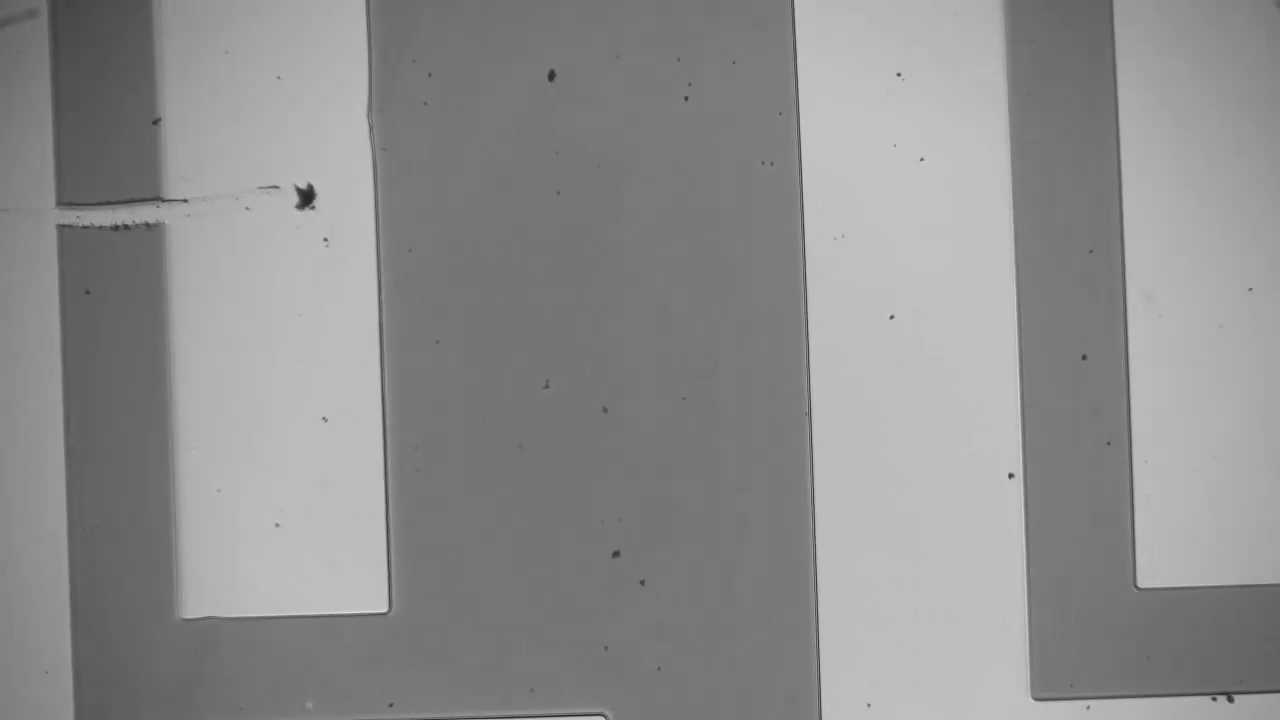Short_circuit: (27, 180, 186, 248)
